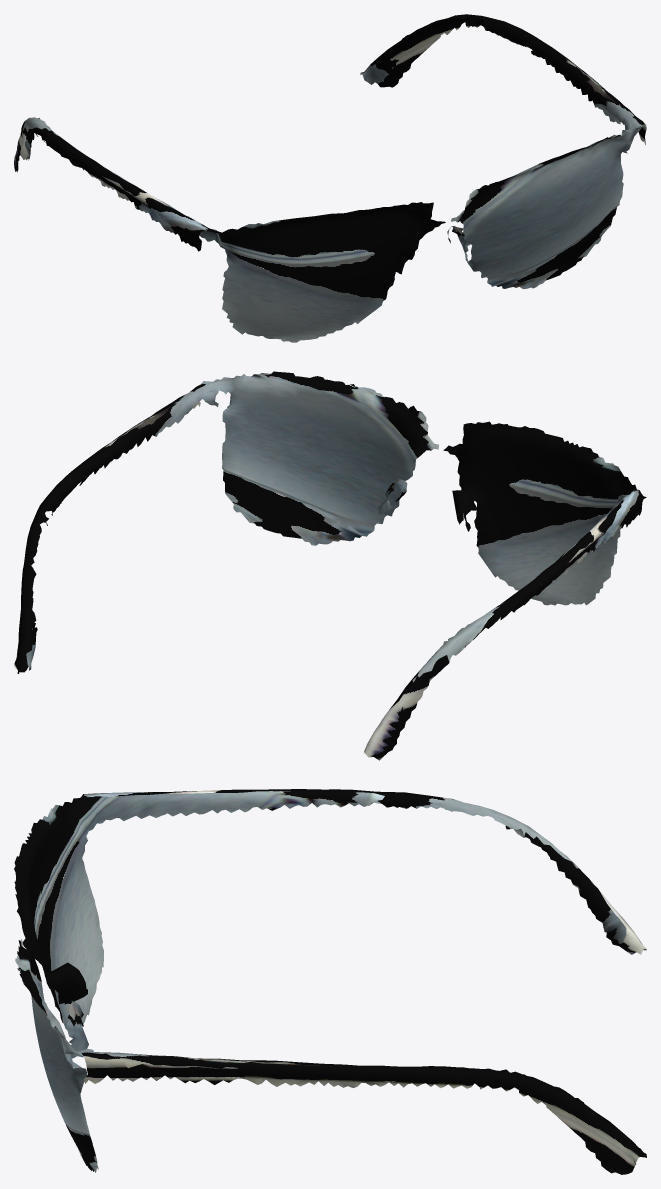
The model's file is scan_align.obj.
3 renders of one model, top to bottom at view 1: azimuth 30°, elevation 25°; view 2: azimuth 150°, elevation 25°; view 3: azimuth 270°, elevation 25°, orthographic. The views are drawn at different scales.
Size of the model in its own units: 0.1545 by 0.0464 by 0.1471.
